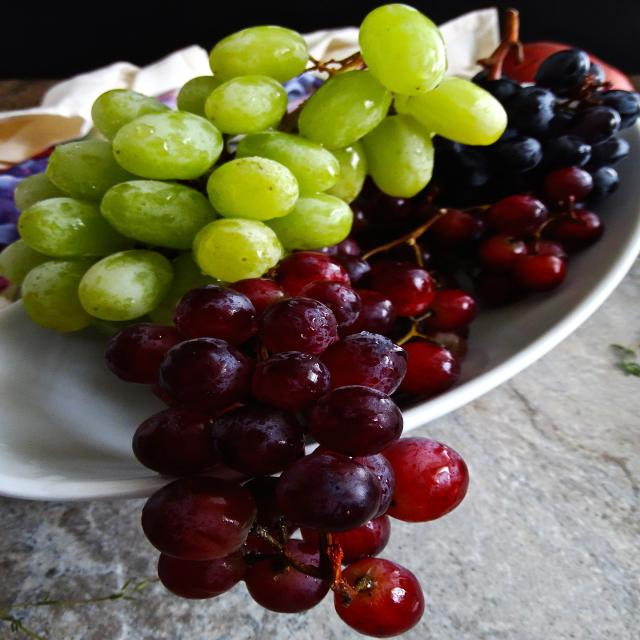Grapes: (102, 213, 504, 637), (16, 13, 496, 332), (171, 400, 456, 630)
